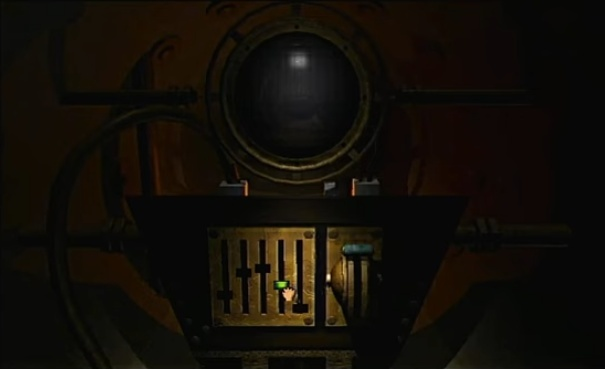Hold: (279, 284, 301, 304)
